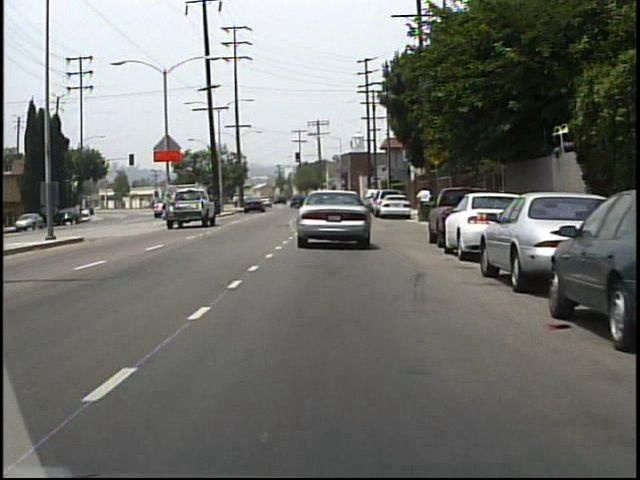person: (415, 182, 433, 204)
